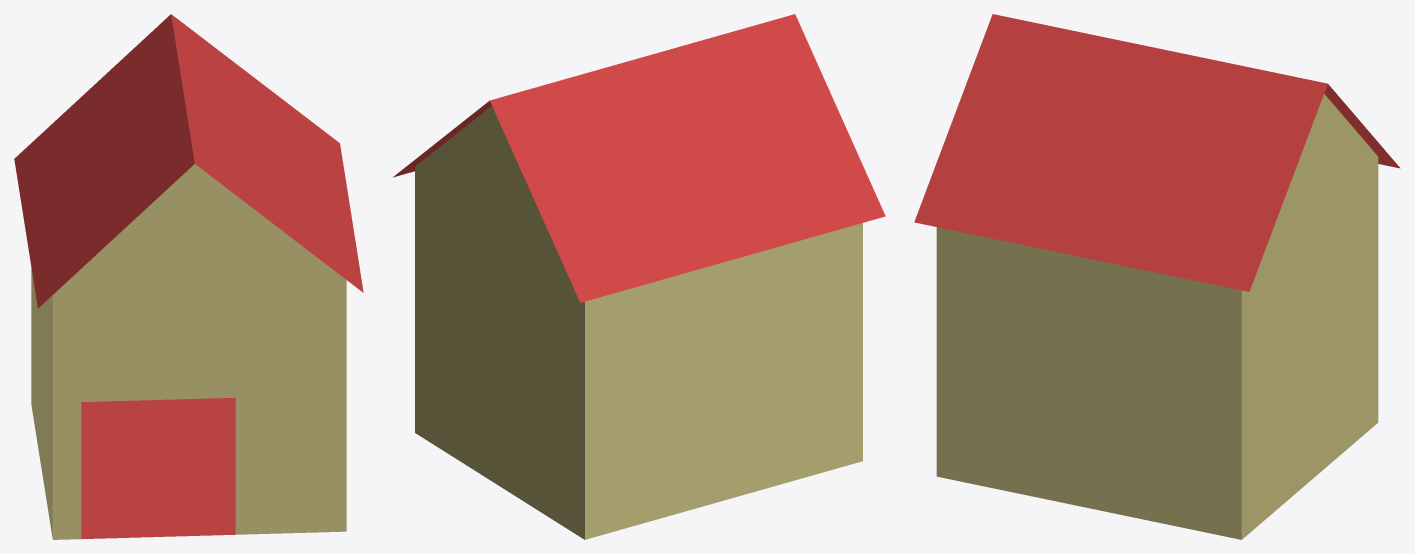
3 renders of one model, left to right at view 1: azimuth 30°, elevation 25°; view 2: azimuth 150°, elevation 25°; view 3: azimuth 270°, elevation 25°, orthographic. The views are drawn at different scales.
Size of the model in its own units: 14.13 by 14.54 by 13.13.
